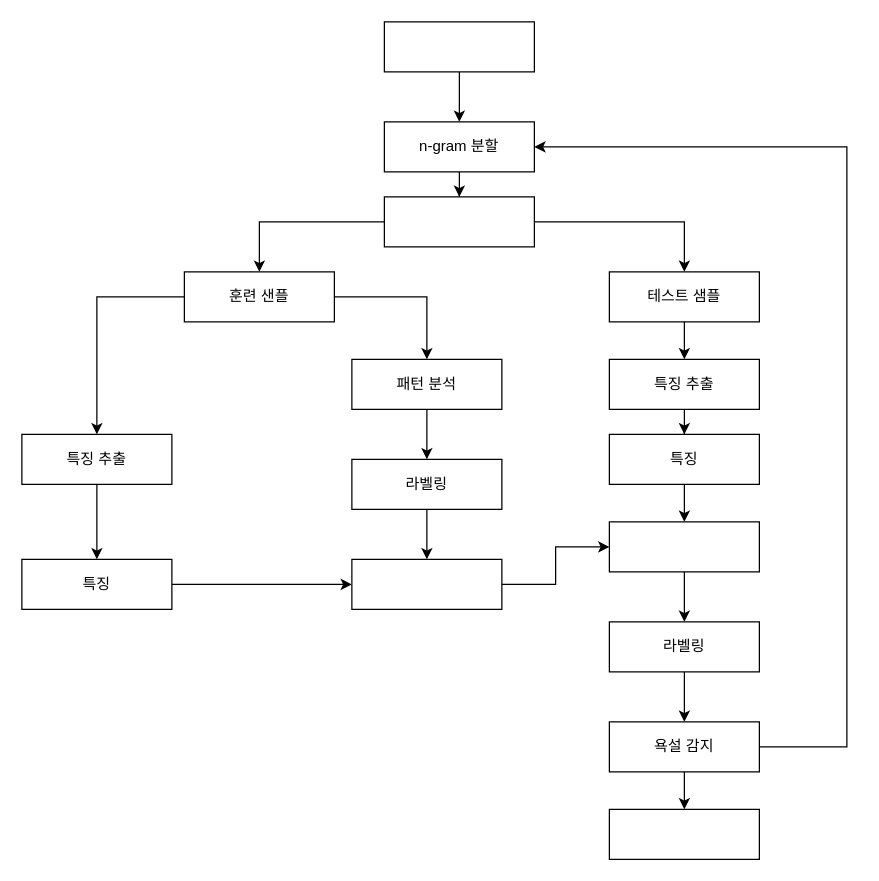
This 879x881 diagram has some shape labels left out. The centre of each missing label's shape, as x and y in pixels:
"머신 러닝 프로세스" belongs at (426,583).
"변형욕 데이터 로그" belongs at (458,46).
"분류 모델" belongs at (683,546).
"악성 유저 제재" belongs at (683,833).
"이미지로 변환" belongs at (458,221).
